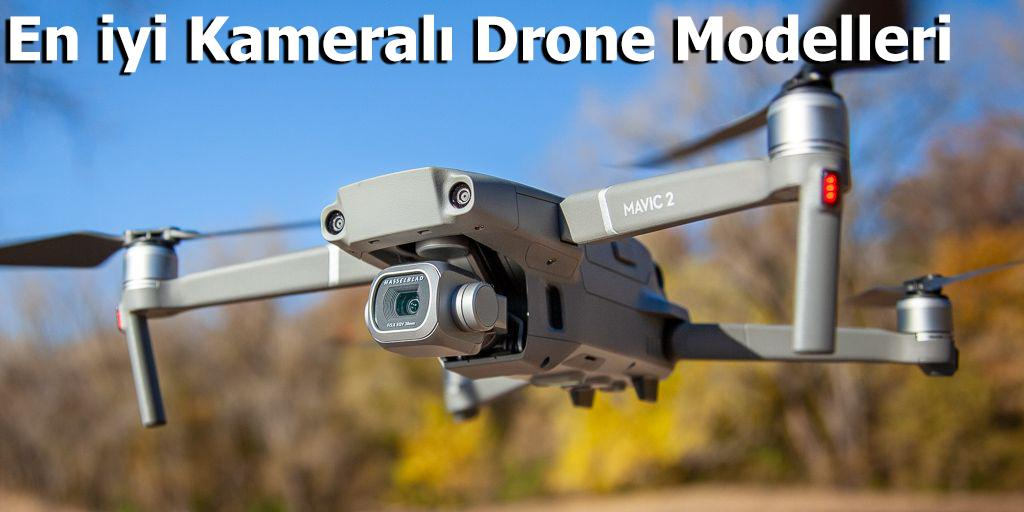drone: (72, 70, 1008, 402)
